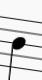note: (6, 7, 28, 79)
